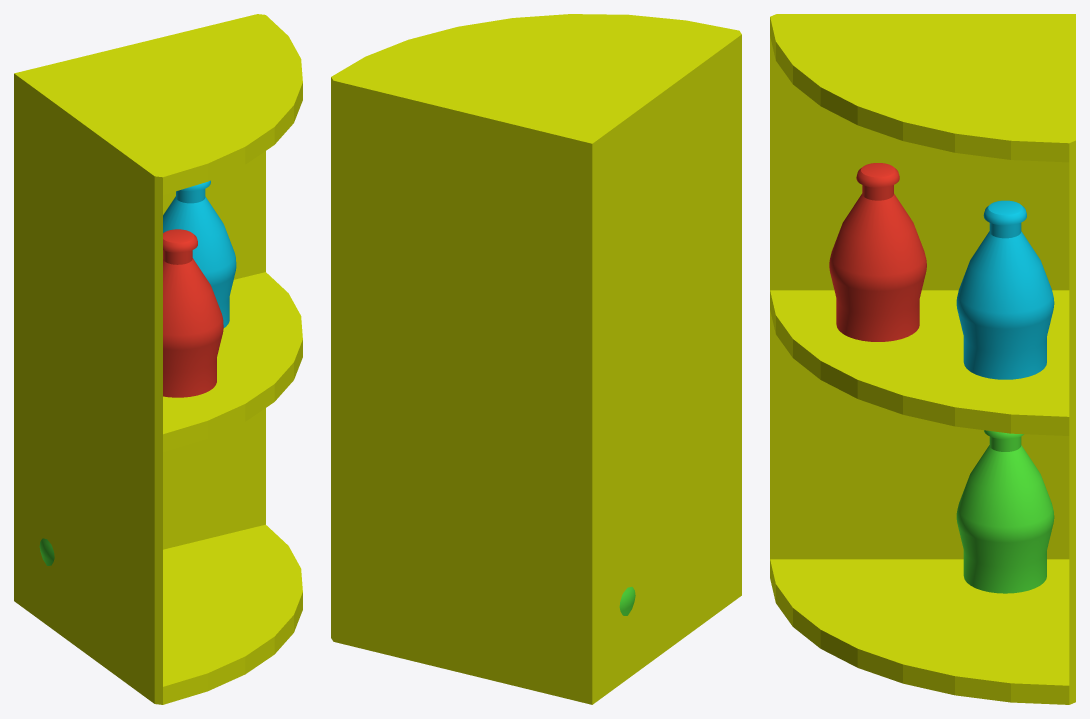
Rendered from sabunluk.fbx.
The picture shows the model from 3 angles, left to right: view 1: azimuth 30°, elevation 25°; view 2: azimuth 150°, elevation 25°; view 3: azimuth 270°, elevation 25°; orthographic projection. The views are drawn at different scales.
Parts seen in each view (by area): view 1: Sabunluk; view 2: Sabunluk; view 3: Sabunluk.
Boxes of the visible parts, x1,y1,x2,y2 form: Sabunluk: (14,14,302,704); Sabunluk: (331,14,741,704); Sabunluk: (770,14,1075,704).
Size of the model in its own units: 30.97 by 62.18 by 30.68.
